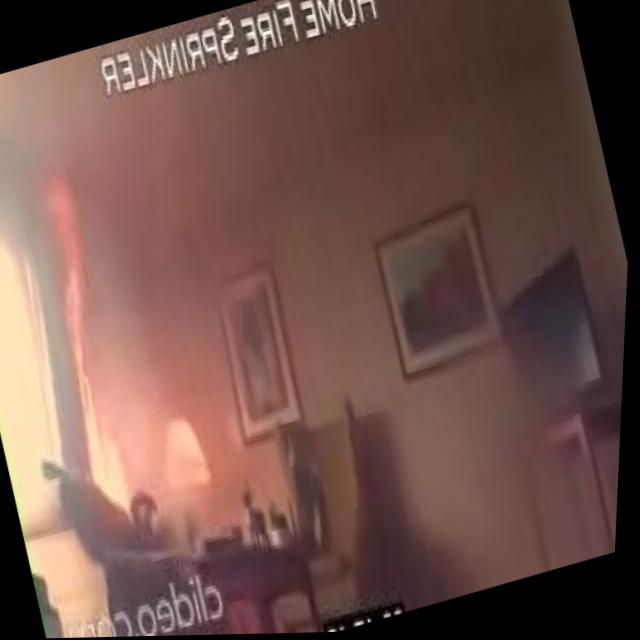fire: (15, 160, 164, 512)
